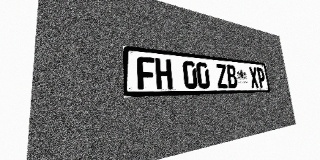0: (182, 60, 198, 89), (196, 62, 210, 89)
B: (226, 64, 238, 88)
F: (137, 56, 156, 90)
H: (155, 58, 173, 89)
P: (256, 67, 266, 88)
X: (248, 67, 259, 88)
Z: (215, 63, 228, 88)
